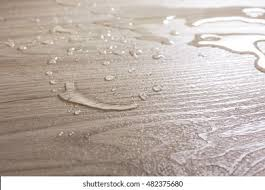Wet-floor: (12, 11, 170, 64), (110, 4, 264, 30), (58, 76, 138, 121), (195, 28, 265, 77)
